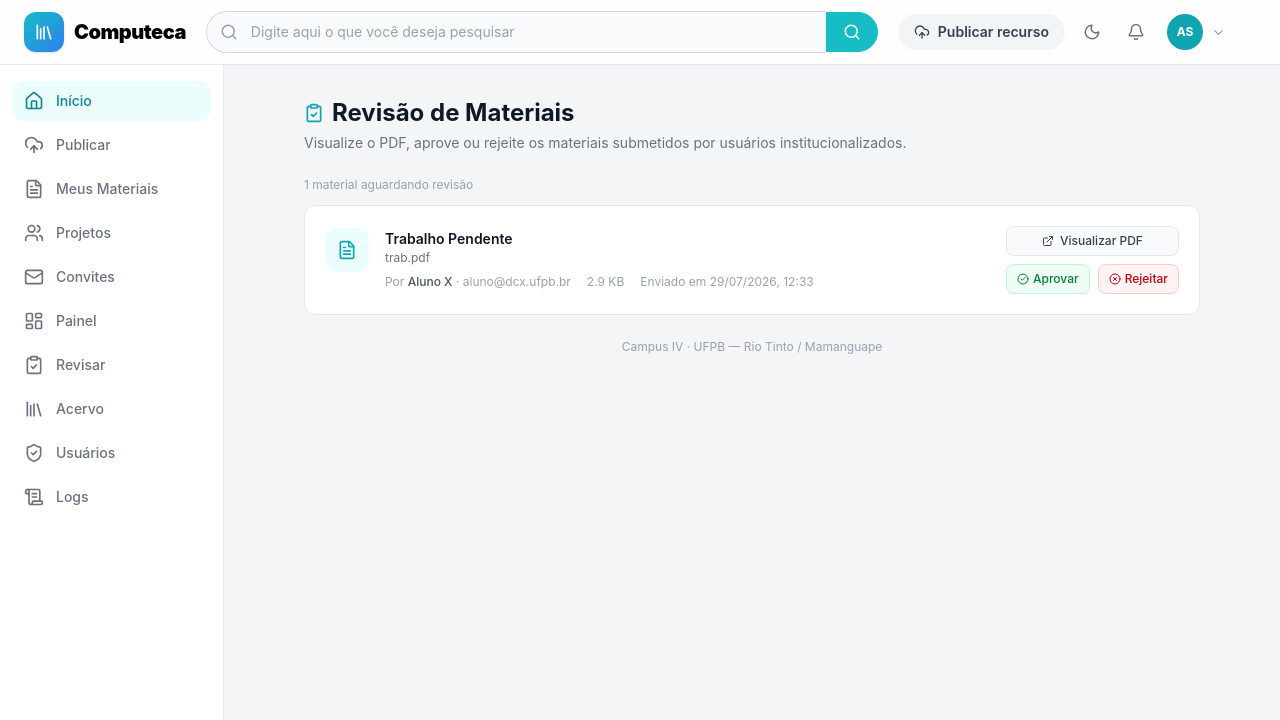
Test: ProfessorReviewPage › aprova um material com confirmação
Click the button "Aprovar": (1048, 279) x1=1006 y1=264 x2=1090 y2=294
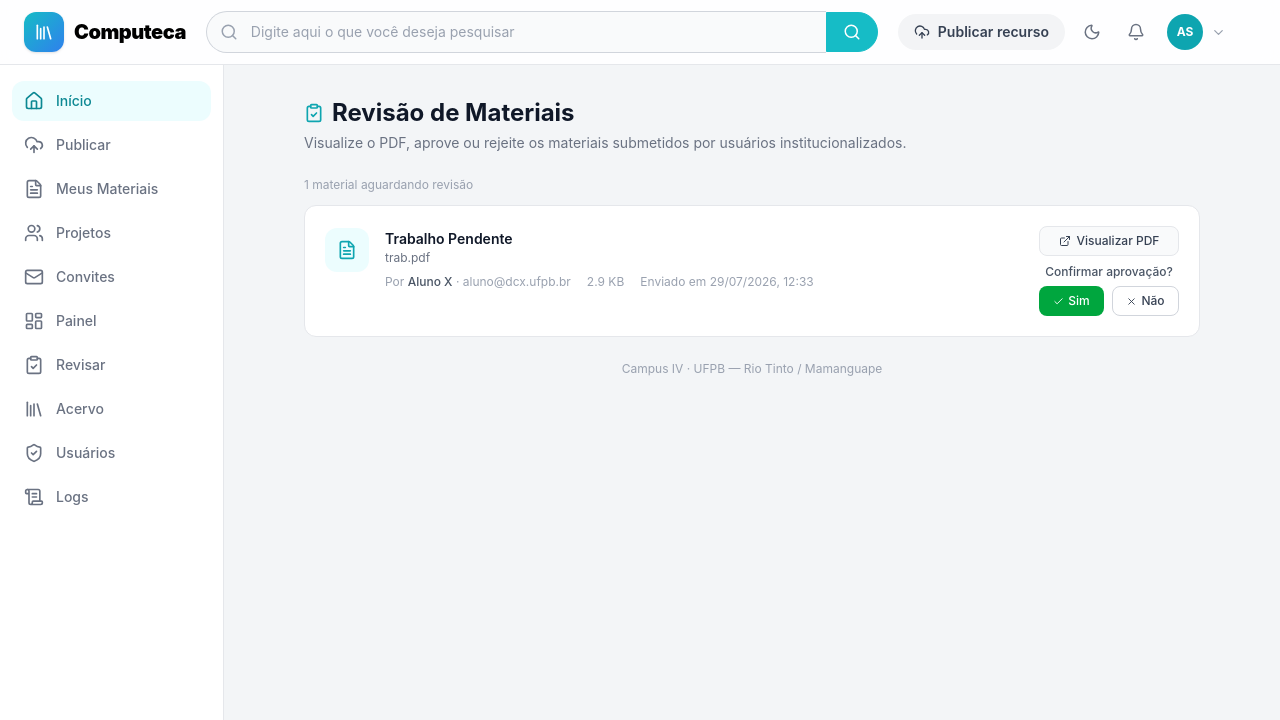
Click the button "Sim": (1072, 301) x1=1039 y1=286 x2=1104 y2=316
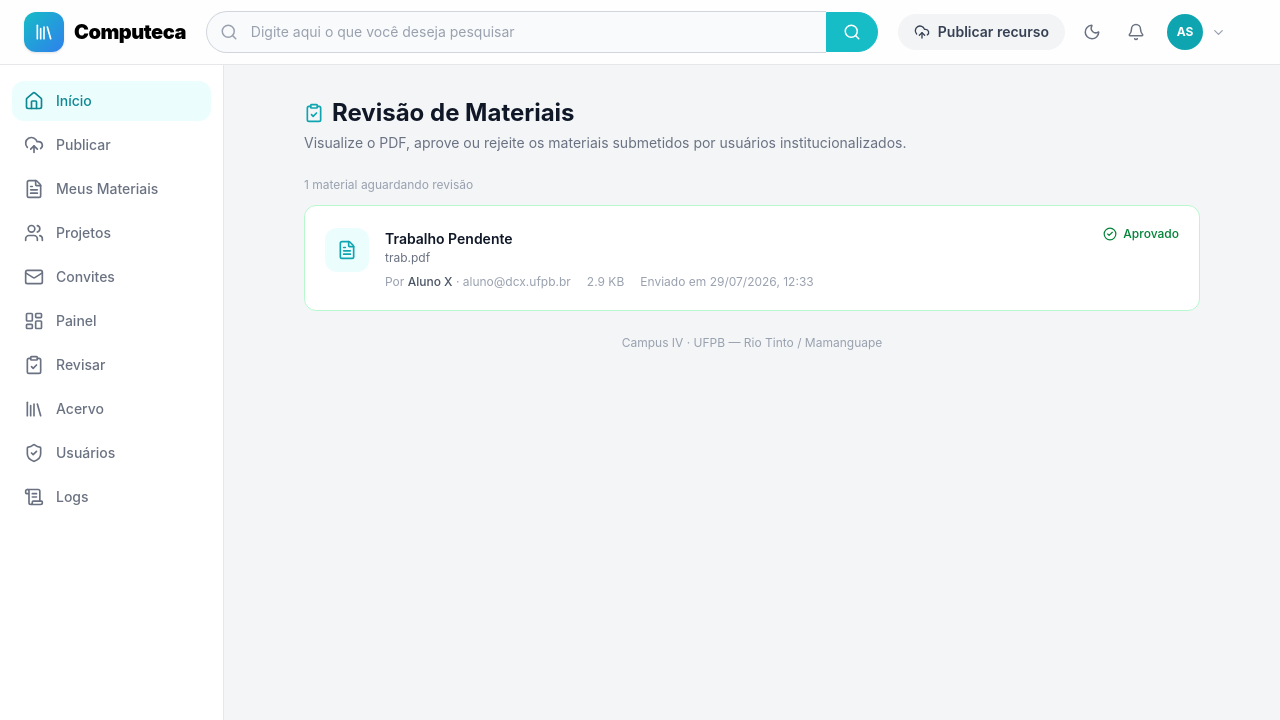
Expected: the text "Aprovado" is shown, x1=1103 y1=226 x2=1179 y2=242
